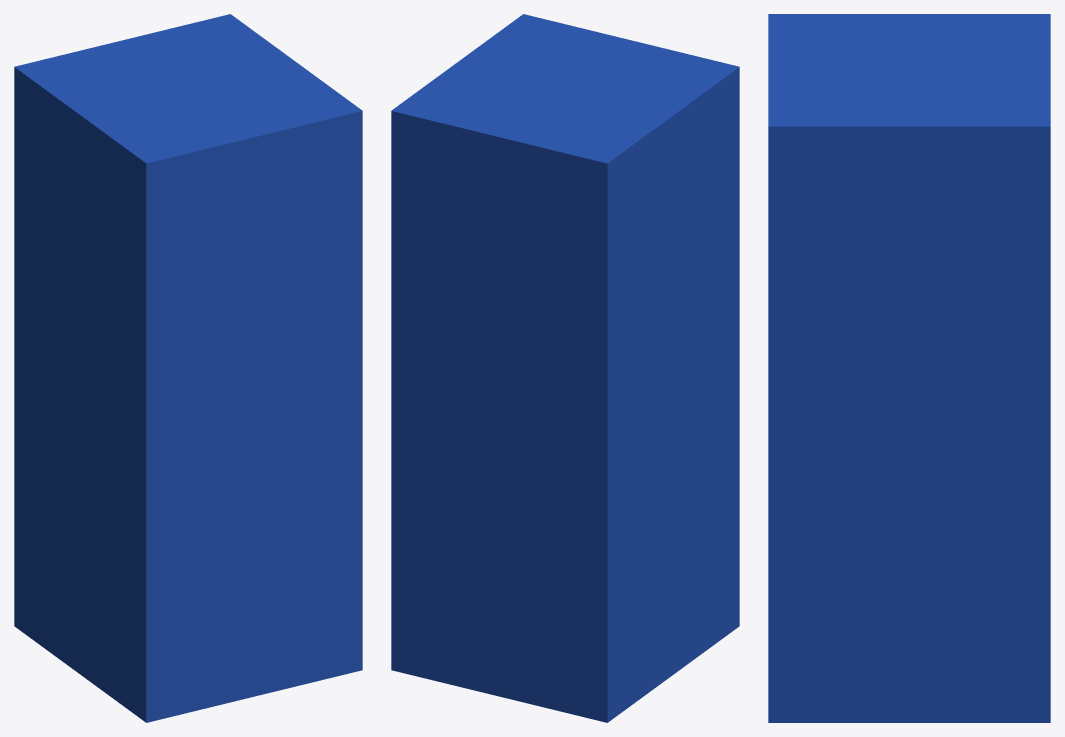
The model's file is j1_muslo.obj.
3 renders of one model, left to right at view 1: azimuth 30°, elevation 25°; view 2: azimuth 150°, elevation 25°; view 3: azimuth 270°, elevation 25°, orthographic. The views are drawn at different scales.
Size of the model in its own units: 0.17 by 0.42 by 0.18.
Materials: 1 (1 with a texture image).
